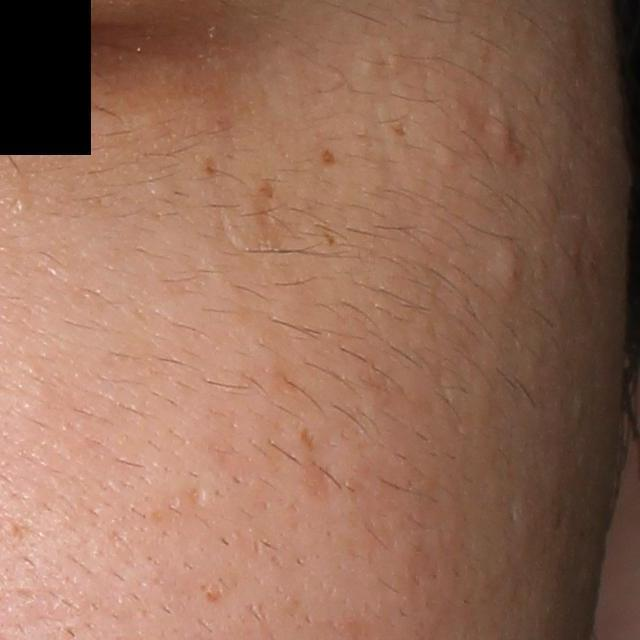atrophic_scar: (188, 480, 207, 504)
comedo: (495, 246, 528, 292)
melasma: (321, 149, 340, 167), (393, 123, 412, 139), (201, 158, 217, 176)
